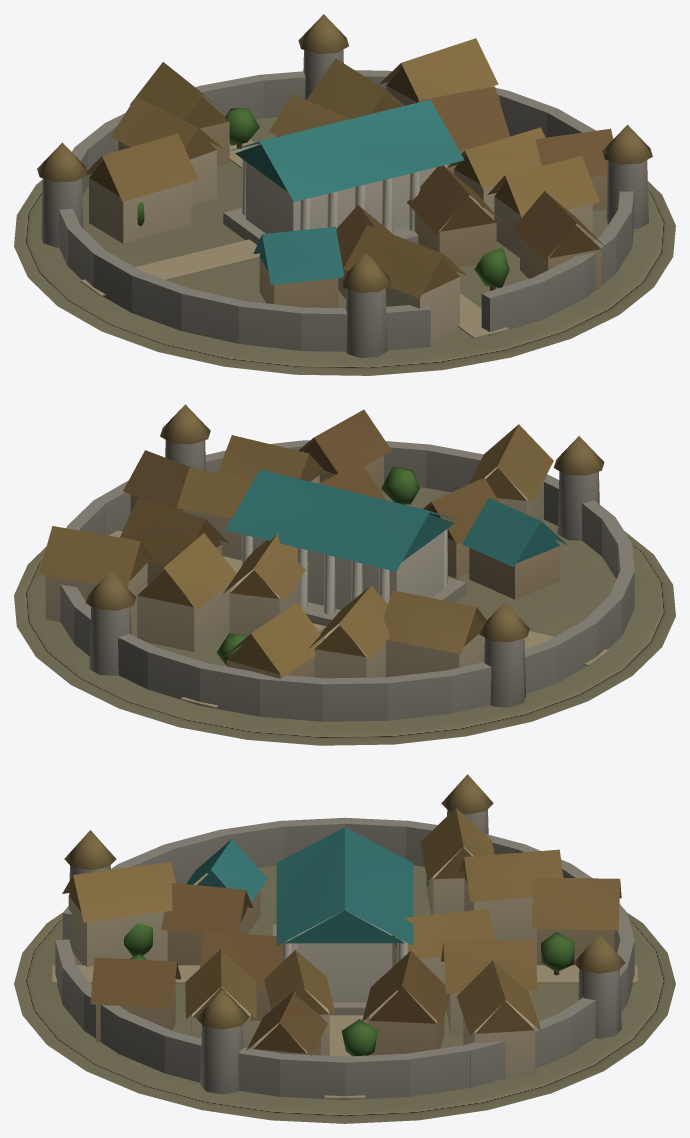
The model's file is settlement_0_2.glb.
The picture shows the model from 3 angles, top to bottom: view 1: azimuth 30°, elevation 25°; view 2: azimuth 150°, elevation 25°; view 3: azimuth 270°, elevation 25°; orthographic projection.
Parts seen in each view (by area): view 1: part_0; view 2: part_0; view 3: part_0.
Part boxes in pixels (left/top/right/bottom): part_0: left=14, top=14, right=675, bottom=375; part_0: left=14, top=404, right=675, bottom=745; part_0: left=14, top=774, right=675, bottom=1123.
Bounding box in the file's own units: 32.8 × 6.31 × 32.8.
